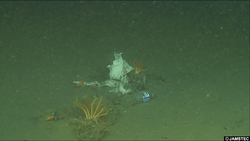plastic bag: (72, 49, 135, 96)
